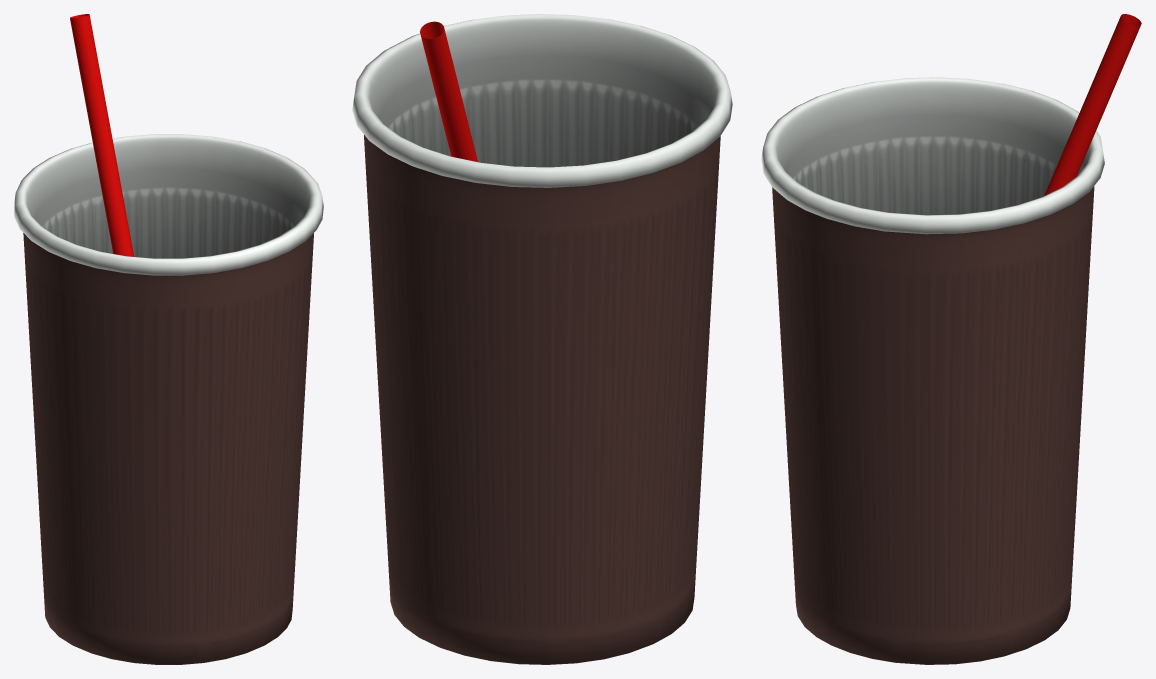
File: tinto.gltf
The picture shows the model from 3 angles, left to right: view 1: azimuth 30°, elevation 25°; view 2: azimuth 150°, elevation 25°; view 3: azimuth 270°, elevation 25°; orthographic projection. The views are drawn at different scales.
Parts seen in each view (by area): view 1: Plastic Cup_0, Cylinder; view 2: Plastic Cup_0, Cylinder; view 3: Plastic Cup_0, Cylinder.
Part boxes in pixels (x1,y1,x2,y2): Plastic Cup_0: (14,134,323,664); Cylinder: (70,14,134,256); Plastic Cup_0: (352,14,732,664); Cylinder: (420,21,477,161); Plastic Cup_0: (761,77,1104,664); Cylinder: (1044,14,1141,195).
Size of the model in its own units: 1.54 by 2.93 by 1.7.
2 materials, 1 textured.
